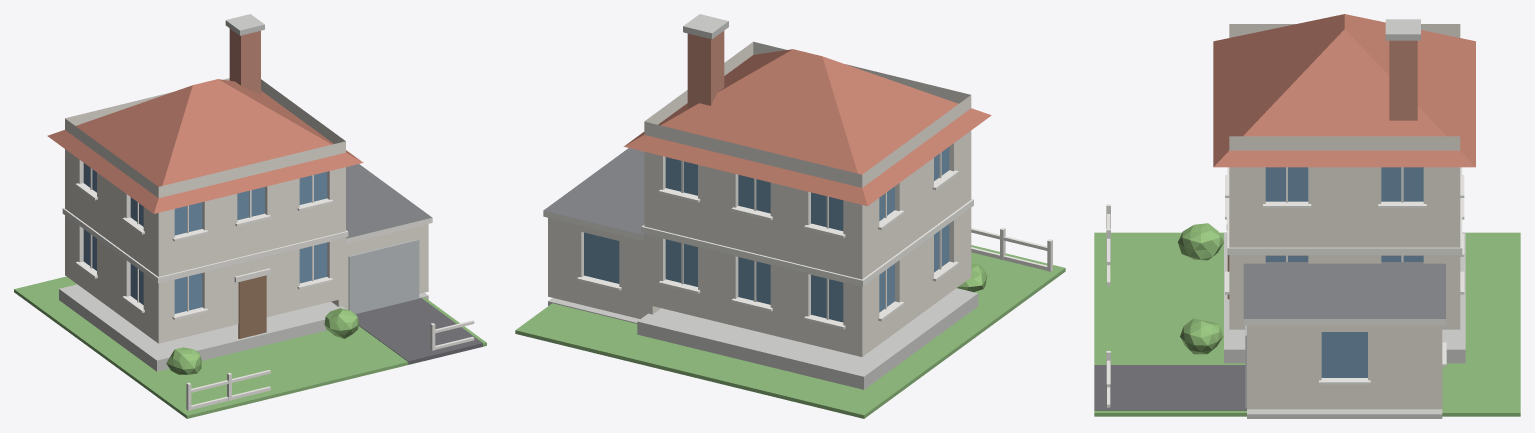
3 renders of one model, left to right at view 1: azimuth 30°, elevation 25°; view 2: azimuth 150°, elevation 25°; view 3: azimuth 270°, elevation 25°, orthographic. The views are drawn at different scales.
Parts seen in each view (by area): view 1: r_1_1_c; view 2: r_1_1_c; view 3: r_1_1_c.
Part boxes in pixels (box(x1,y1,x2,y2)): r_1_1_c: box(14, 14, 486, 418); r_1_1_c: box(515, 14, 1065, 418); r_1_1_c: box(1094, 14, 1520, 418).
Bounding box in the file's own units: 12.27 × 9.95 × 12.
